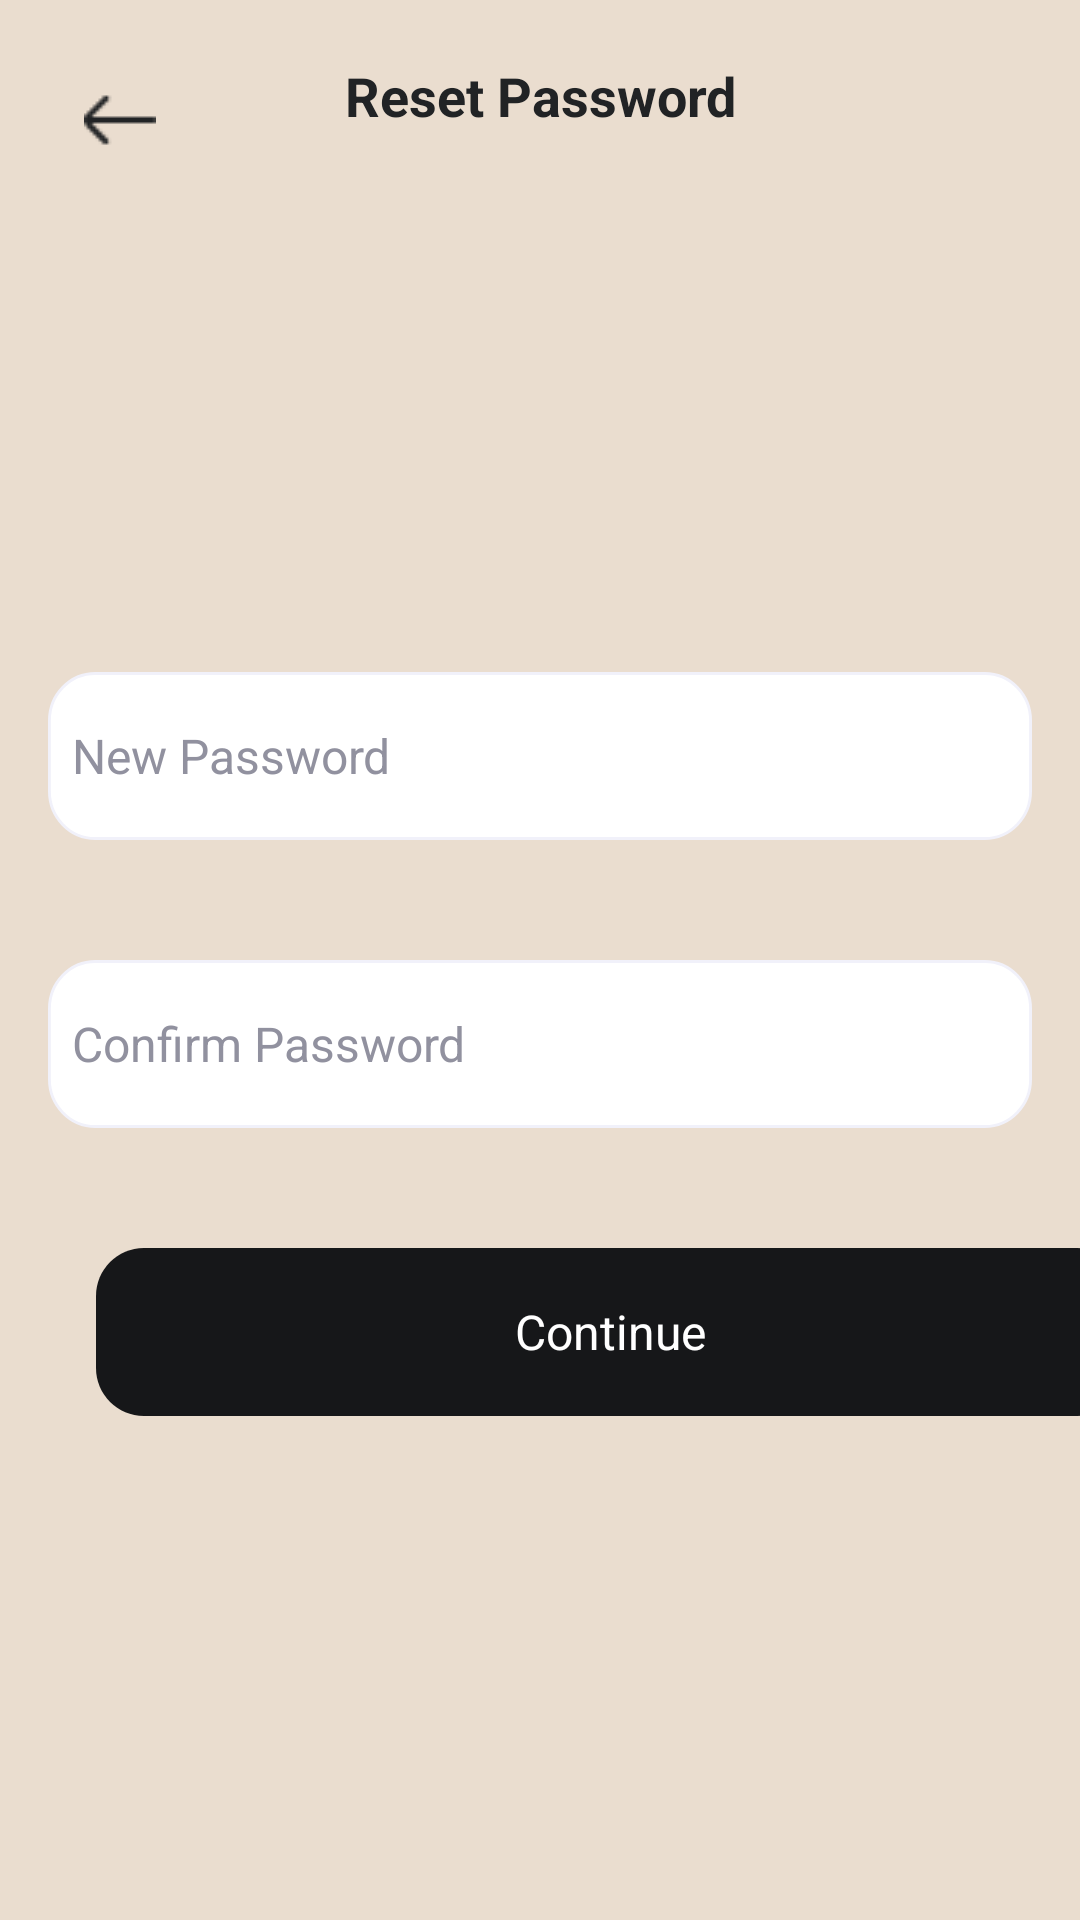

Locate icon controls on the screen. Image size 1080 x 1920, boxes as rect(x1, y1, x2, y2).
back arrow: rect(84, 95, 156, 145)
